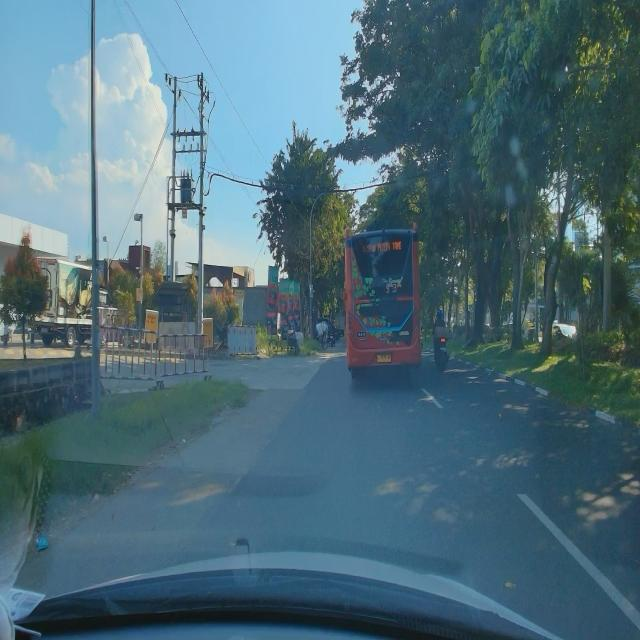bus: (343, 220, 422, 385)
license-plate: (376, 354, 392, 363)
